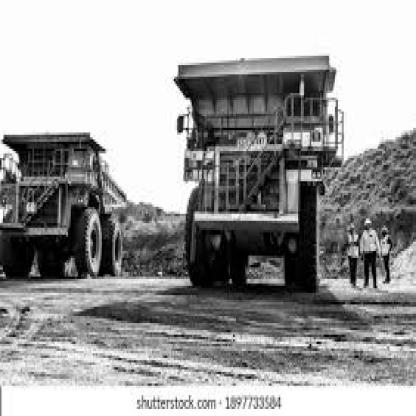dump_truck: (165, 46, 350, 304), (3, 123, 128, 288)
